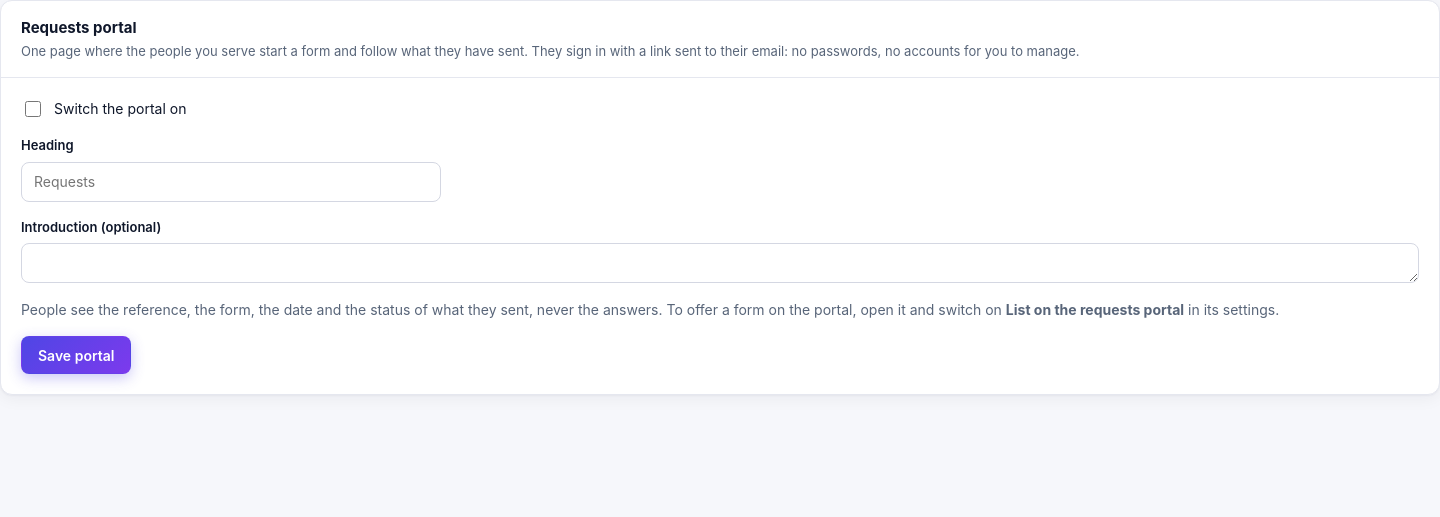
Test: the requests portal setting › switching it on with a heading saves both and shows where the portal is
Click the checkbox labelled "Switch the portal on" at coordinates (33, 109), box [25, 101, 41, 117]
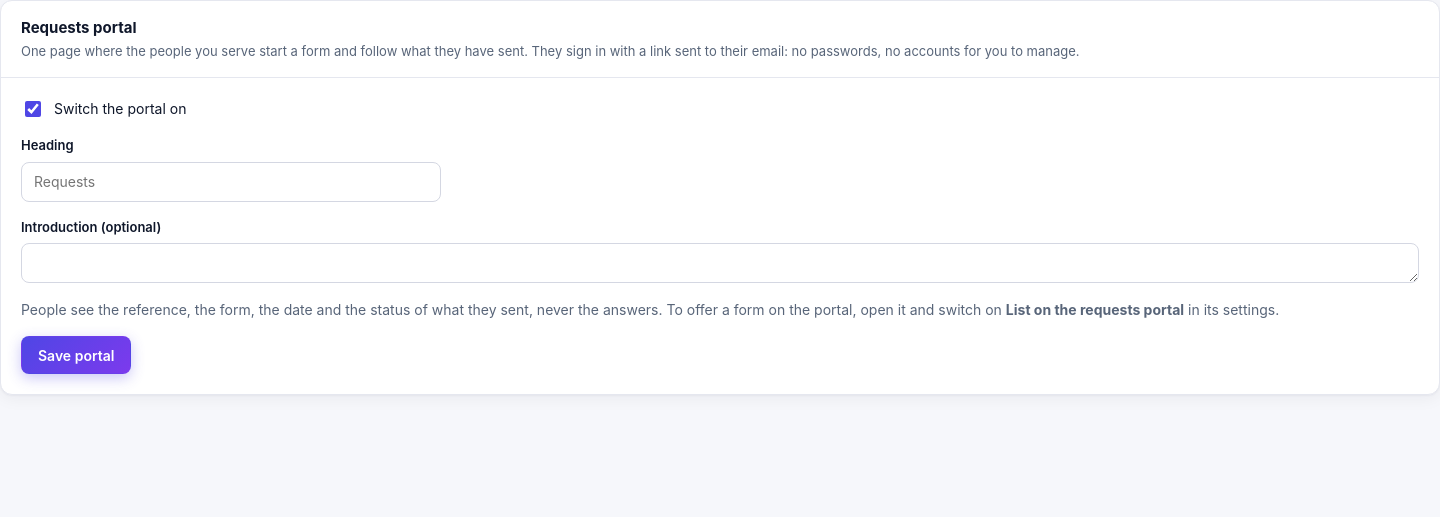
Type "Acme help desk" into the field labelled "Heading" at coordinates (231, 182), box [21, 162, 441, 202]
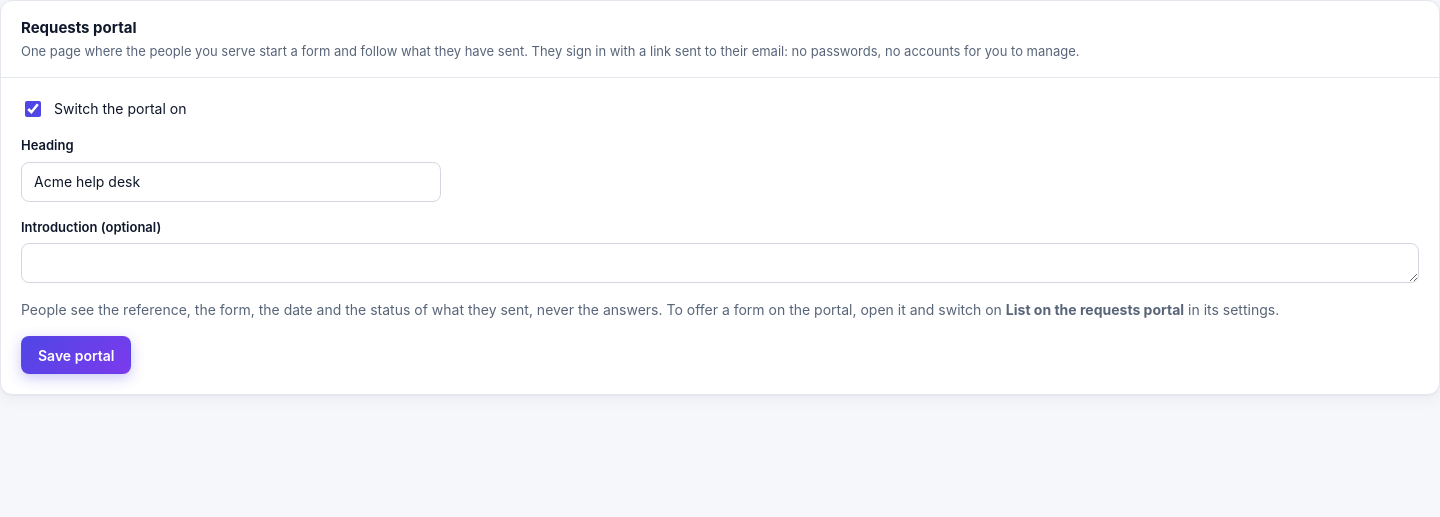
Type "Ask us." into the text box labelled "Introduction (optional)" at coordinates (720, 263), box [21, 243, 1419, 283]
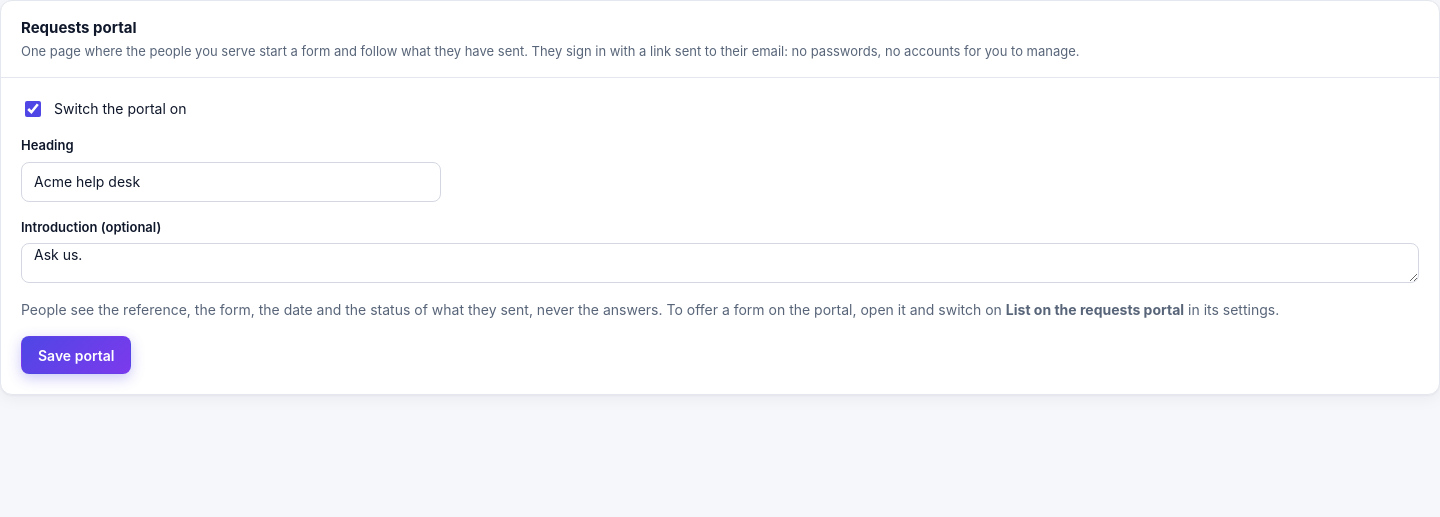
Click the button "Save portal" at coordinates (76, 355), box [21, 336, 132, 374]
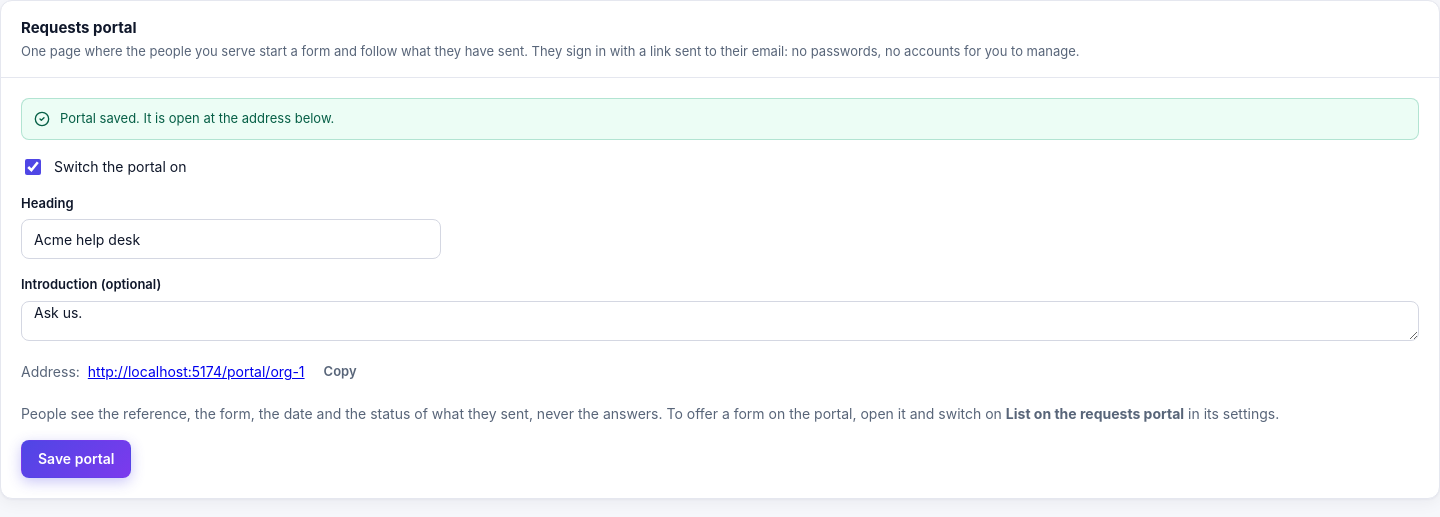
expect the text "Portal saved. It is open at the address below." is shown: met, box [60, 109, 334, 128]
